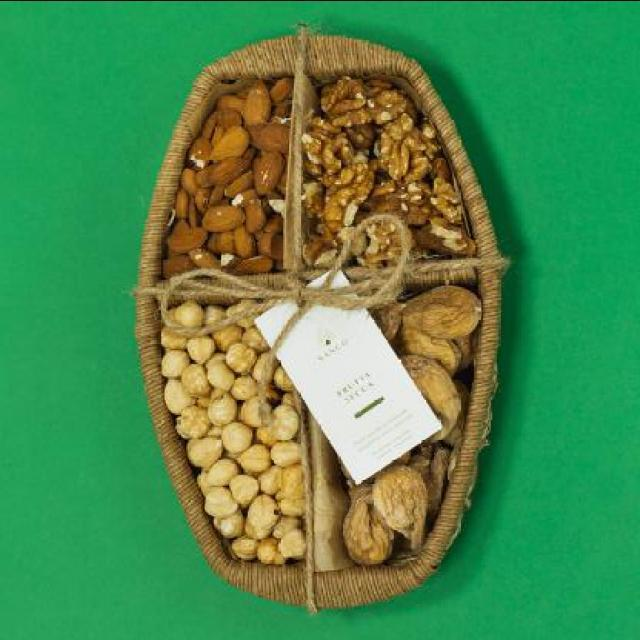Frutta secca: (158, 300, 290, 580), (169, 46, 289, 280), (306, 62, 437, 266)
